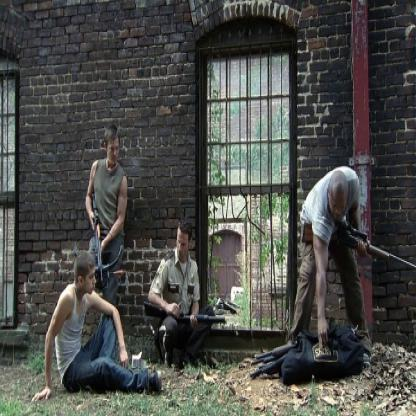Guns: (300, 216, 416, 270), (248, 338, 313, 380), (142, 298, 228, 325), (88, 191, 107, 290)
